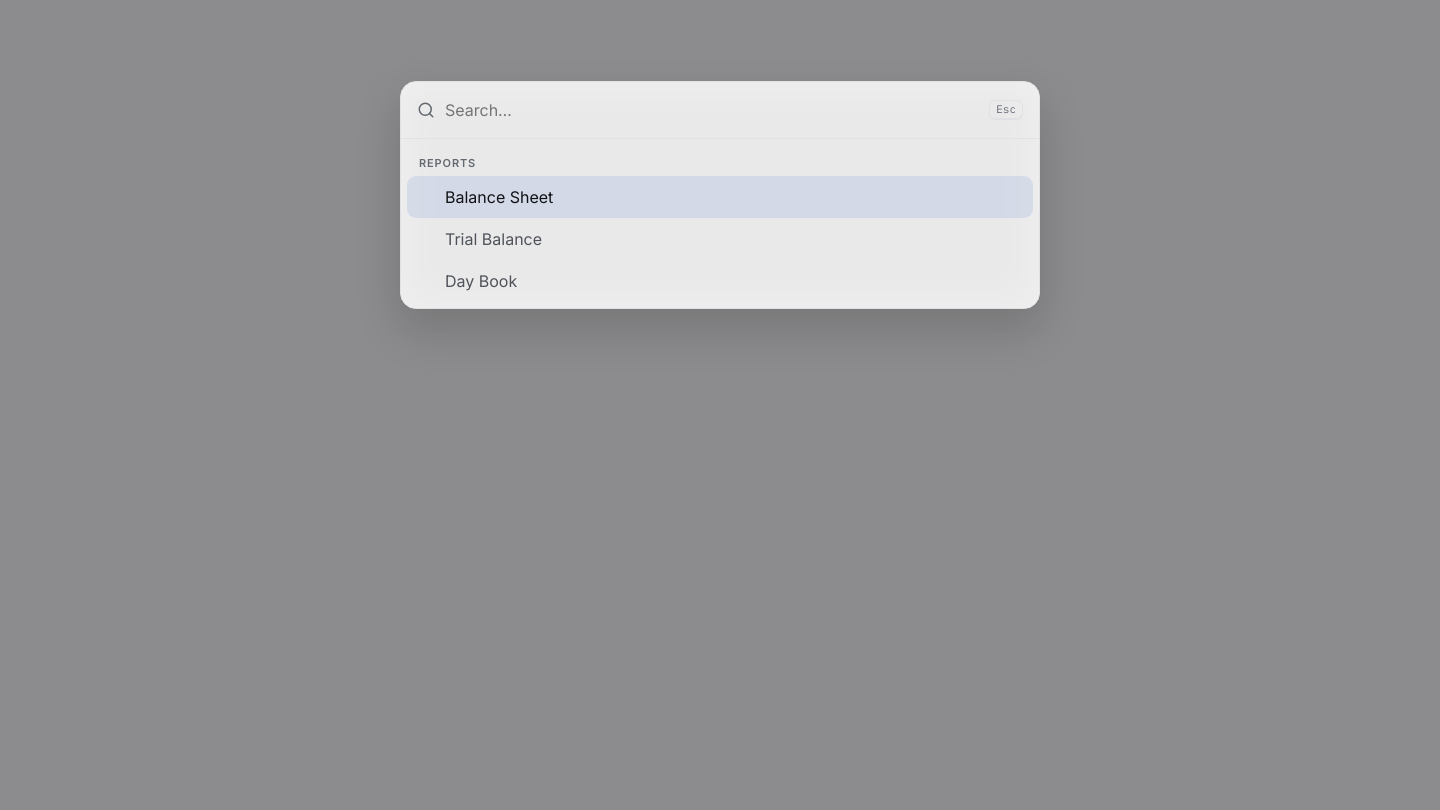
Test: CommandPalette › finds an item by every word typed, in any order
Type "balance trial" into the dropdown at (712, 110), box left=445, top=82, right=979, bottom=138
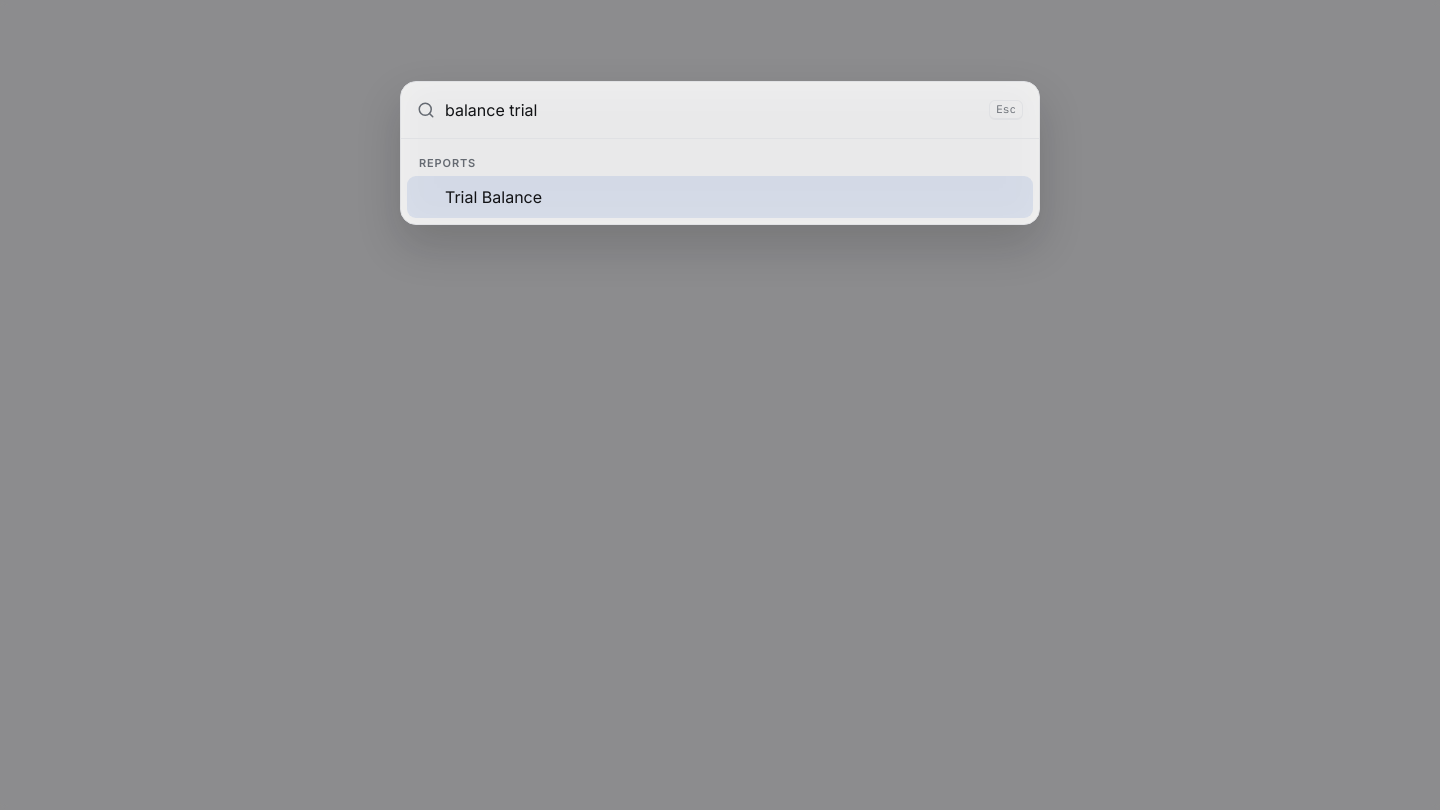
Result: the options read "Trial Balance", in this order at left=407, top=176, right=1033, bottom=218
